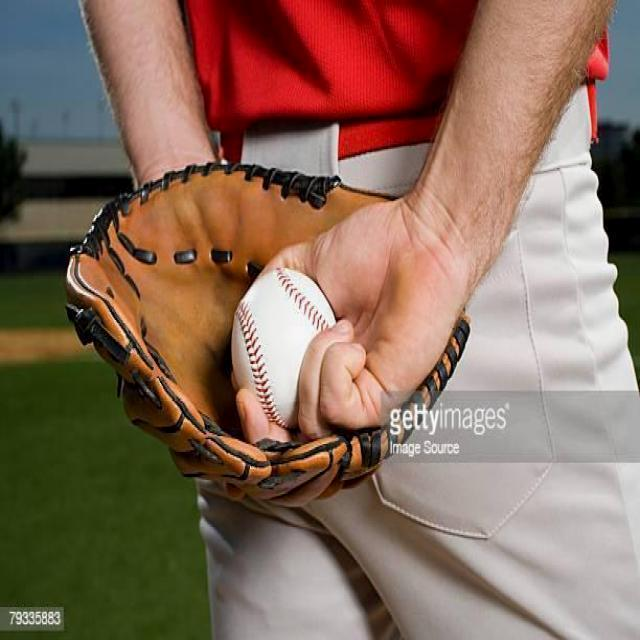ball: (230, 268, 342, 430)
